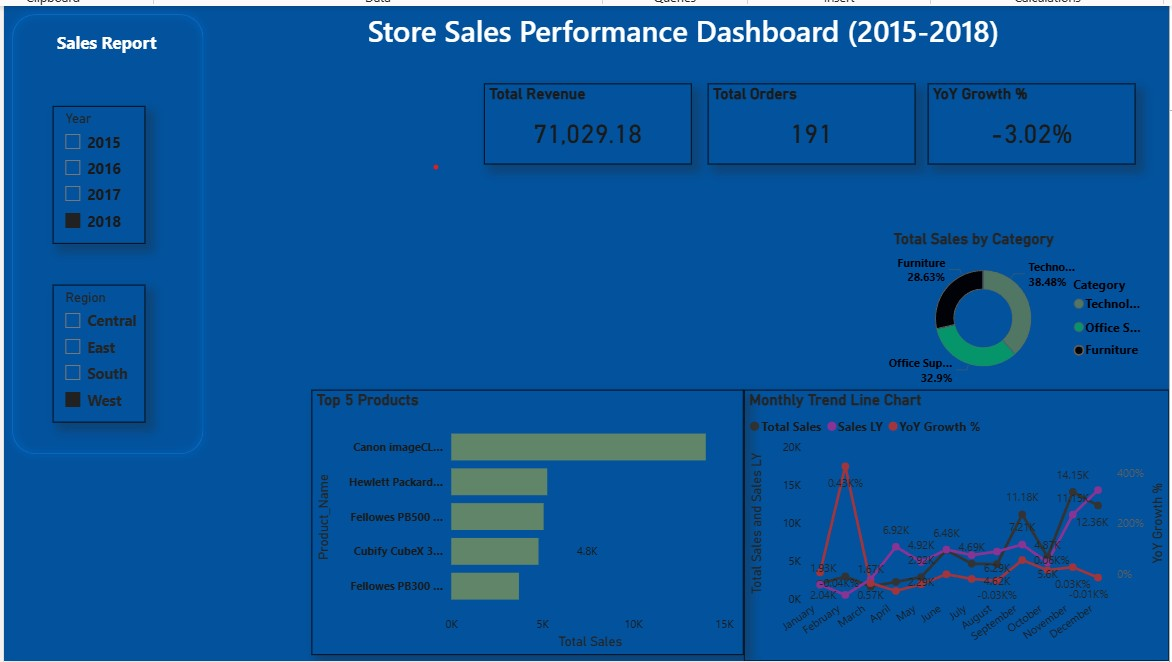

The page's visual inventory and layout, read from the dashboard file:
{"tool":"powerbi","page":{"name":"Page 1","canvas":[1280,720],"ordinal":0},"visuals":[{"type":"card","title":"Total Revenue","fields":{"Values":["Sum(vw_Sales_Store_Analysis.Sales)"]},"box":[507.7,109.8,227.8,89.2],"z":0,"group":"g1"},{"type":"lineChart","title":"Monthly Trend Line Chart","fields":{"Category":["Date_Table.Month_Name"],"Y":["vw_Sales_Store_Analysis.Total Sales","Date_Table.Sales LY"],"Y2":["Date_Table.YoY Growth %"]},"box":[812.4,421.3,467.9,299.1],"z":0},{"type":"group","id":"g1","title":"Group 1","box":[507.7,109.8,714.9,89.2],"z":1000},{"type":"card","title":"Total Orders","fields":{"Values":["Count(vw_Sales_Store_Analysis.Order_ID)"]},"box":[753.3,109.8,227.8,89.2],"z":1000,"group":"g1"},{"type":"slicer","fields":{"Values":["Date_Table.Year"]},"box":[53.5,109.8,101.5,150.9],"z":2000,"group":"g2"},{"type":"card","title":"YoY Growth %","fields":{"Values":["Date_Table.YoY Growth %"]},"box":[994.8,109.8,227.8,89.2],"z":2000,"group":"g1"},{"type":"slicer","fields":{"Values":["vw_Sales_Store_Analysis.Region"]},"box":[53.5,306,101.5,150.9],"z":2001,"group":"g2"},{"type":"clusteredBarChart","title":"Top 5 Products","fields":{"Category":["vw_Sales_Store_Analysis.Product_Name"],"Y":["vw_Sales_Store_Analysis.Total Sales"]},"box":[337.6,421.3,474.8,290.9],"z":2002},{"type":"donutChart","fields":{"Category":["vw_Sales_Store_Analysis.Category"],"Y":["vw_Sales_Store_Analysis.Total Sales"]},"box":[971.5,245.6,292.3,175.6],"z":2003},{"type":"textbox","box":[373.2,0,745.1,65.9],"z":2004},{"type":"shape","box":[0,0,227.8,500.9],"z":2005},{"type":"group","id":"g2","title":"Group 2","box":[53.5,109.8,101.5,347.2],"z":2006},{"type":"textbox","box":[16.5,22,192.1,43.9],"z":2007}]}

Visuals, with their boxes on the page's 1280x720 design canvas (x1, y1, x2, y2). These are canvas units, not pixel positions in the 1172x662 screenshot, which may show the page scaled, cropped or inside an application window:
"Total Revenue" card: (left=508, top=110, right=736, bottom=199)
"Monthly Trend Line Chart" lineChart: (left=812, top=421, right=1280, bottom=720)
"Group 1" group: (left=508, top=110, right=1223, bottom=199)
"Total Orders" card: (left=753, top=110, right=981, bottom=199)
slicer - Date_Table.Year: (left=54, top=110, right=155, bottom=261)
"YoY Growth %" card: (left=995, top=110, right=1223, bottom=199)
slicer - vw_Sales_Store_Analysis.Region: (left=54, top=306, right=155, bottom=457)
"Top 5 Products" clusteredBarChart: (left=338, top=421, right=812, bottom=712)
donutChart - vw_Sales_Store_Analysis.Category x vw_Sales_Store_Analysis.Total Sales: (left=972, top=246, right=1264, bottom=421)
textbox: (left=373, top=0, right=1118, bottom=66)
shape: (left=0, top=0, right=228, bottom=501)
"Group 2" group: (left=54, top=110, right=155, bottom=457)
textbox: (left=16, top=22, right=209, bottom=66)
